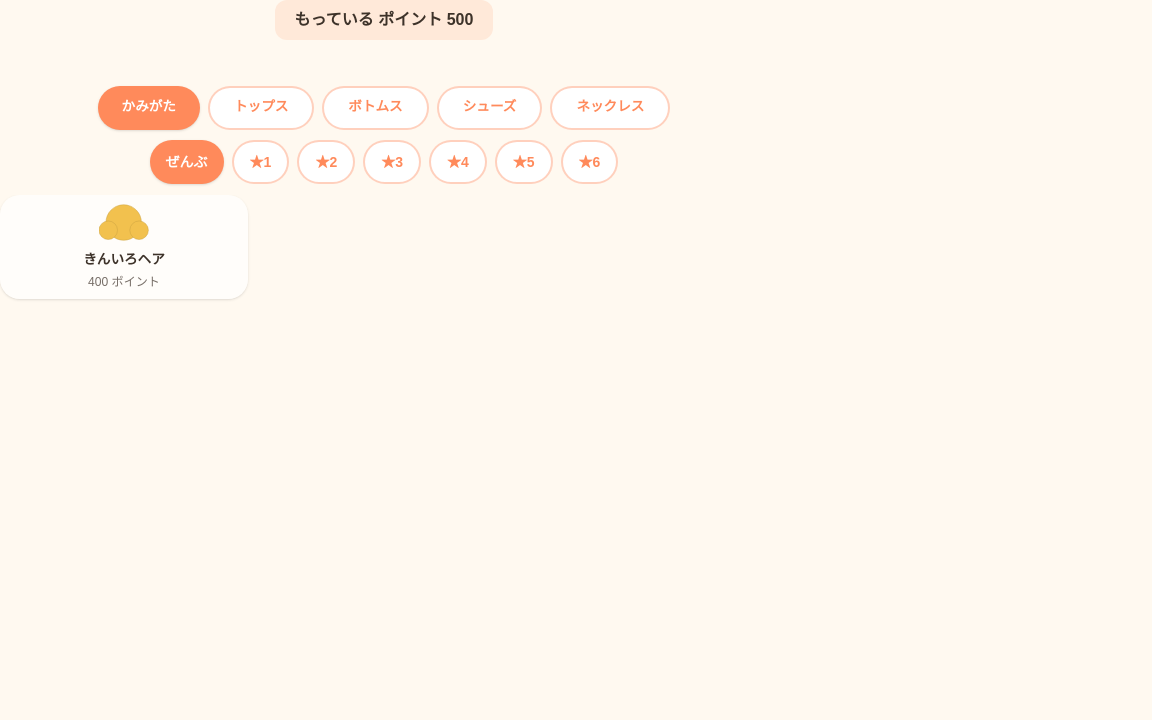
Test: confirming the dialog buys the item
The width and height of the screenshot is (1152, 720).
Click the button "きんいろヘア 400 ポイント": (124,247) [0,195,248,299]
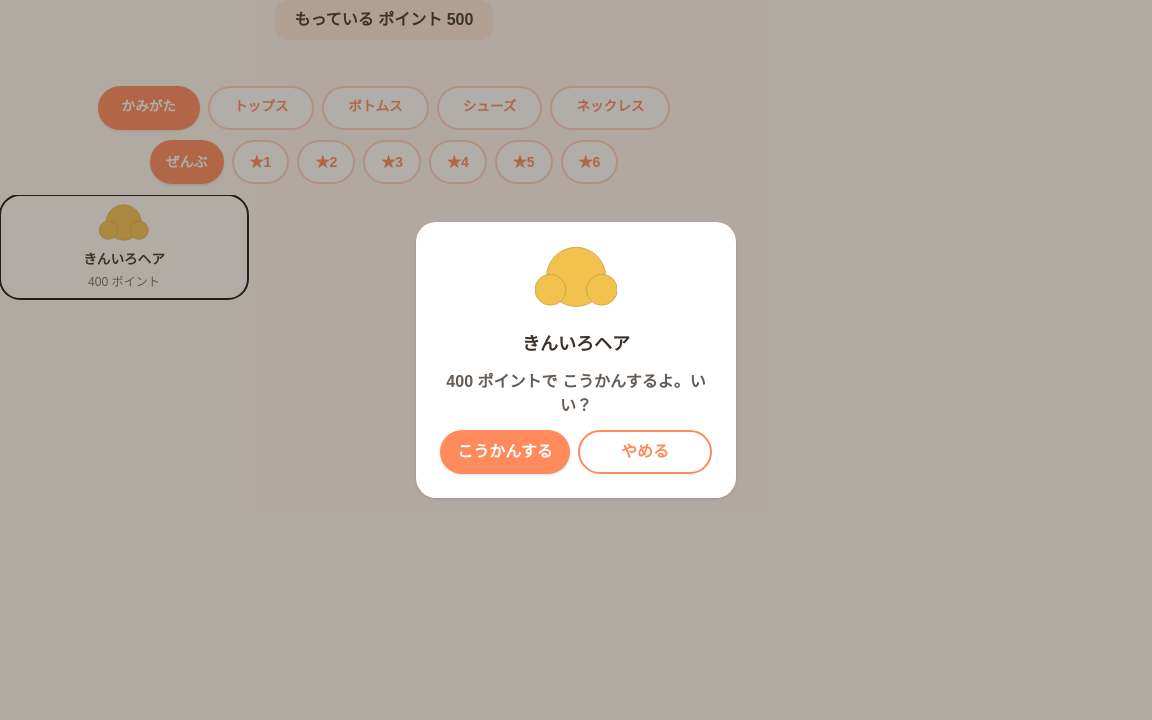
Click the button "こうかんする": (505,452) [440,430,570,474]
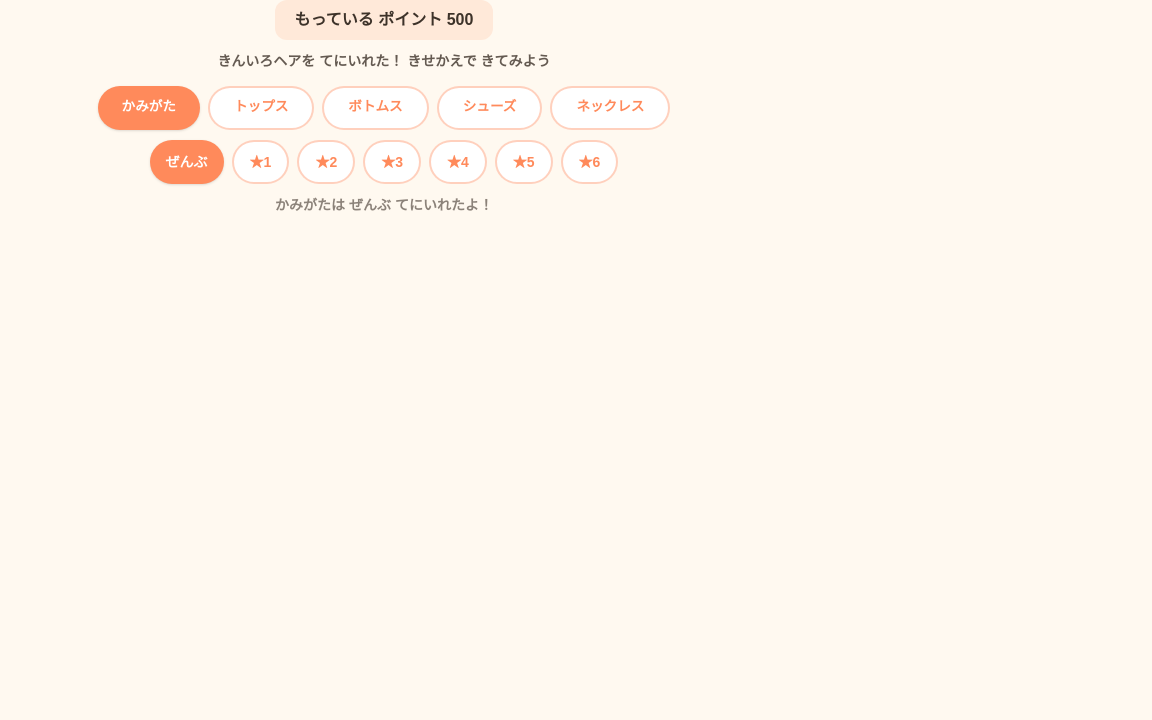
Now the text "きんいろヘアを てにいれた！ きせかえで きてみよう" is shown, box [217,51,551,75]
